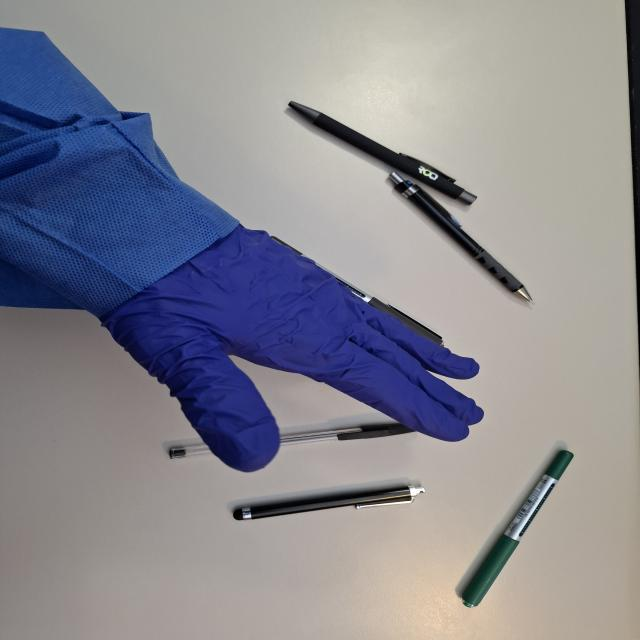glove_on: (98, 218, 487, 474)
